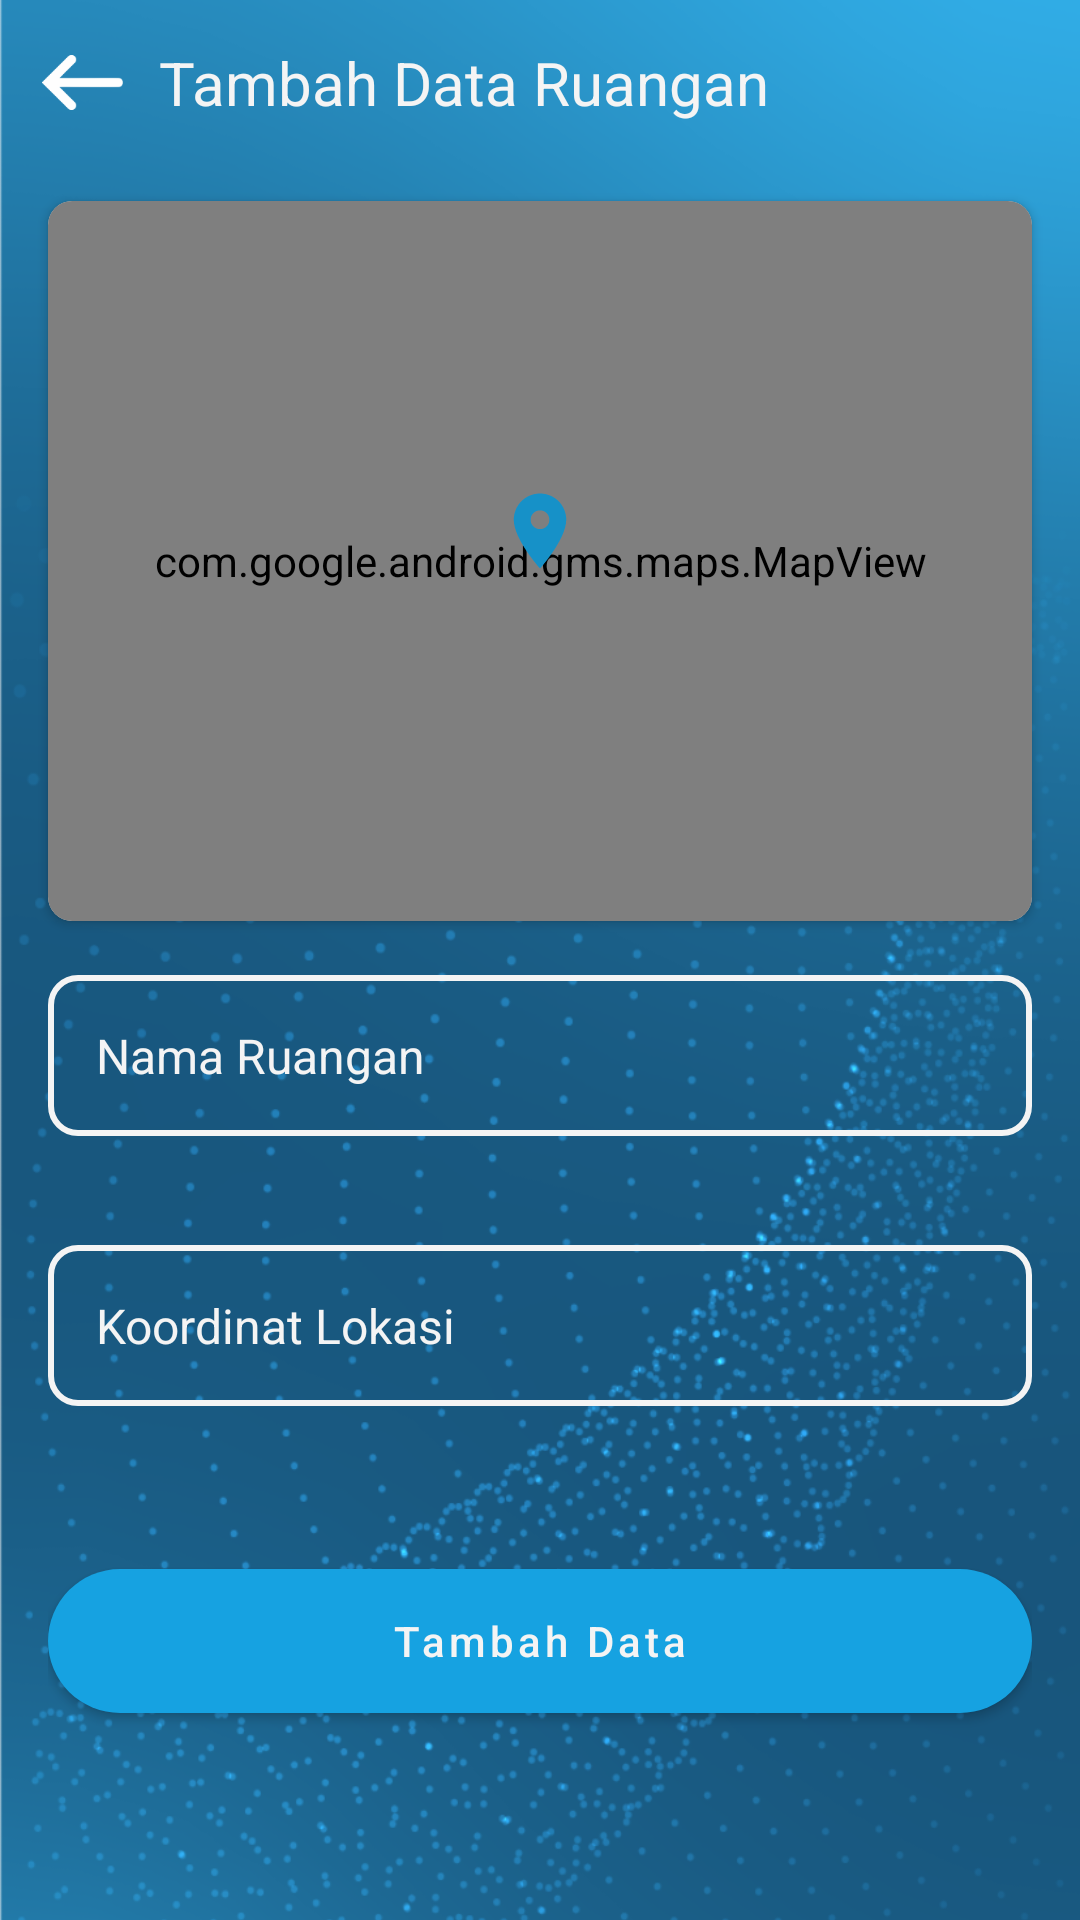

Where to tap for icons on this 1080 × 1920 app screen, as (x,y):
back: (82,82)
location on: (542,534)
